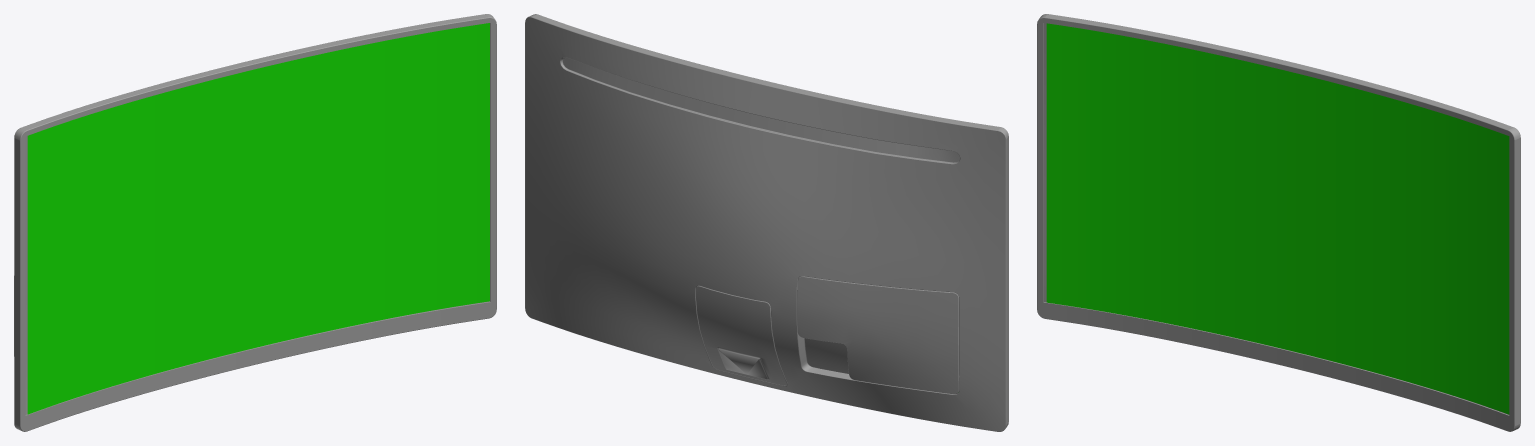
3 renders of one model, left to right at view 1: azimuth 30°, elevation 25°; view 2: azimuth 150°, elevation 25°; view 3: azimuth 330°, elevation 25°, orthographic.
Parts seen in each view (by area): view 1: tv_screen01, tv_body; view 2: tv_body; view 3: tv_screen01, tv_body.
Boxes of the visible parts, x1,y1,x2,y2 form: tv_screen01: [27, 23, 489, 414]; tv_body: [14, 14, 496, 431]; tv_body: [525, 14, 1008, 431]; tv_screen01: [1046, 23, 1509, 414]; tv_body: [1037, 14, 1520, 431].
Bounding box in the file's own units: 197 × 118 × 27.5.
